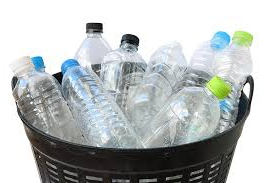plastic water bottle: (5, 52, 77, 158), (58, 56, 130, 154), (137, 75, 232, 149), (126, 35, 193, 128), (206, 31, 255, 135), (99, 32, 147, 86), (73, 16, 114, 71)
